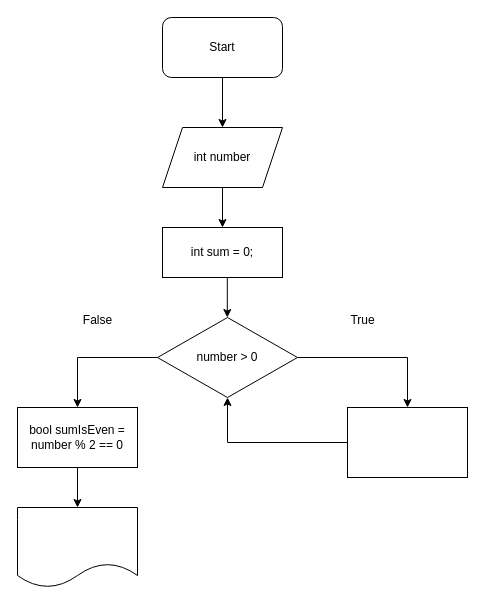
Image size: 485x605. Some labels were removed from this diagram. The shapes that lost their labels are listed below. From the top down, each one's box as (x1, y1, x2, y2) in pixels, then its label:
(346, 406, 468, 478): sum += number % 10 number /= 10
(16, 506, 138, 588): sumIsEven
